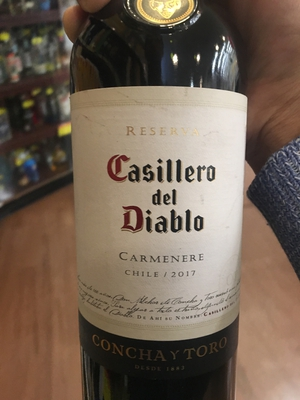casillero del diablo carmenere: (68, 13, 272, 400)
